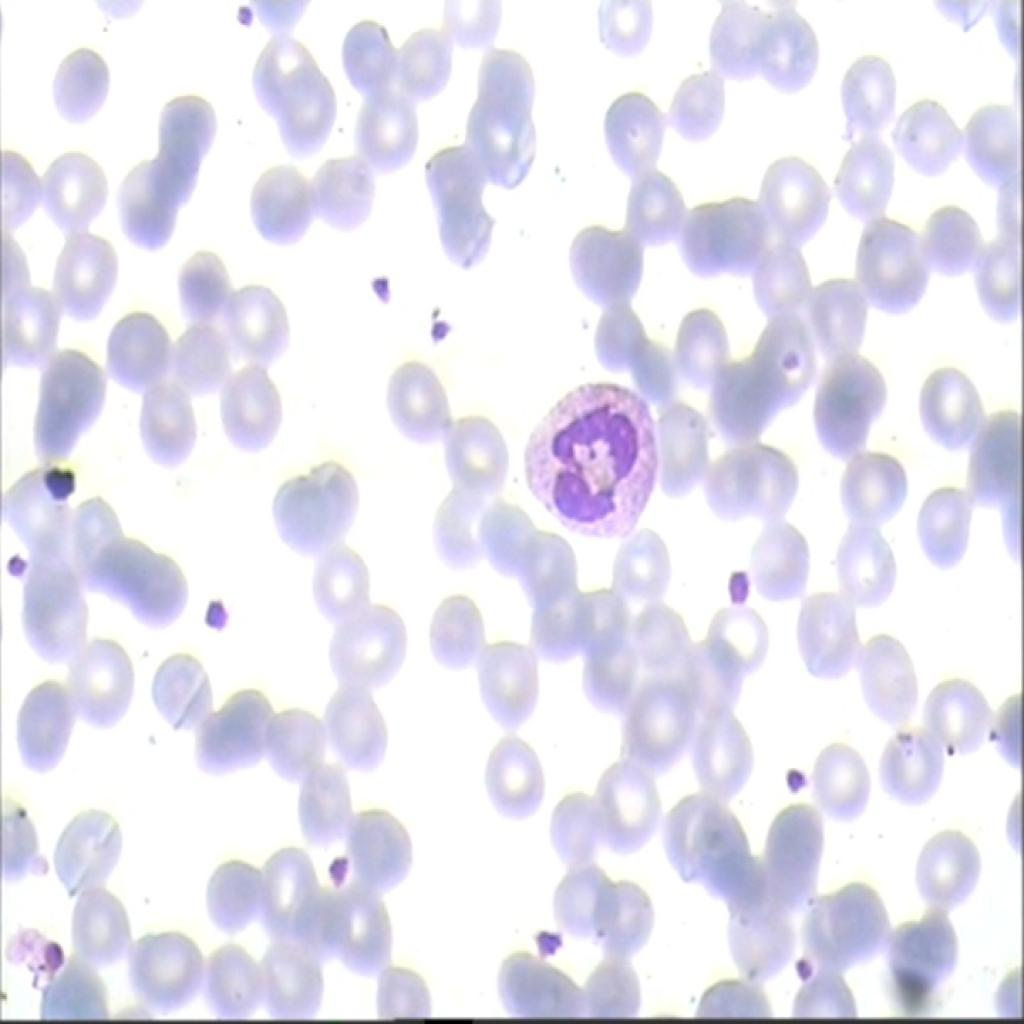Neutrofil: (512, 370, 664, 553)
Platelet: (724, 549, 761, 619), (784, 933, 822, 999), (37, 460, 85, 512), (24, 916, 64, 978), (314, 834, 353, 896), (0, 537, 47, 588), (414, 288, 448, 352), (533, 924, 566, 970), (353, 261, 385, 304), (780, 759, 810, 804), (199, 592, 223, 644), (233, 0, 259, 39)
